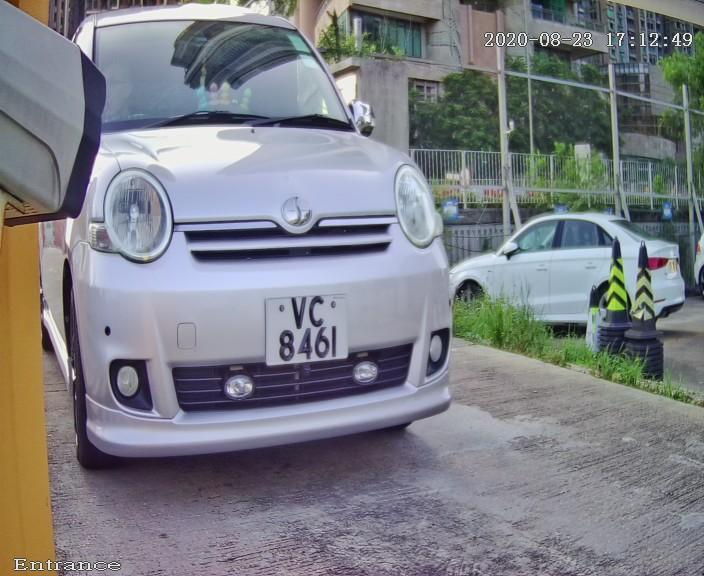Car: (22, 1, 491, 502)
License Plate: (237, 263, 381, 398)
